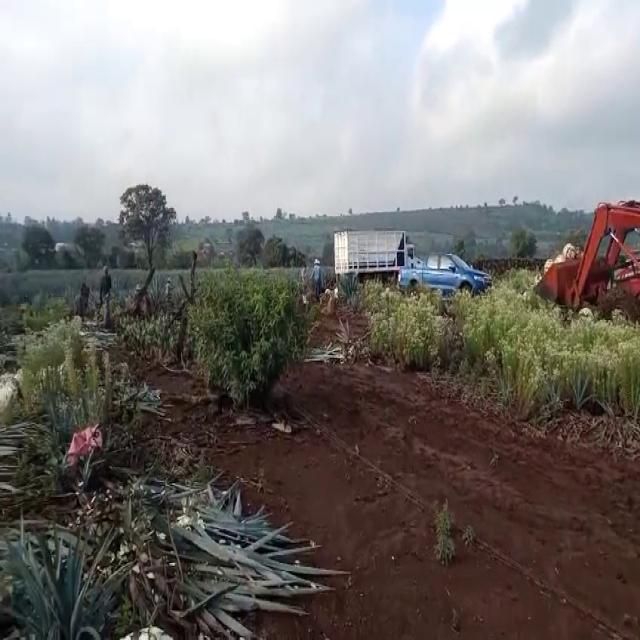agave: (0, 369, 21, 417), (15, 363, 31, 386)
